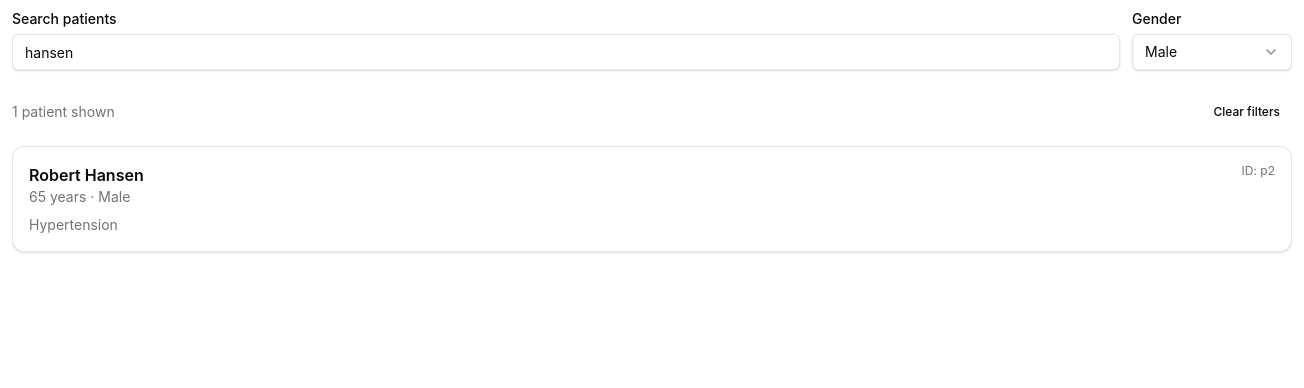
Test: PatientList › reads filters from the URL and can clear them
The image size is (1304, 388).
Expected: the heading "Robert Hansen" is shown, [29,163,144,187]
Expected: the text "mary smith" is not shown
Click the button "Clear filters" at (1247, 112), box [1201,96,1292,128]
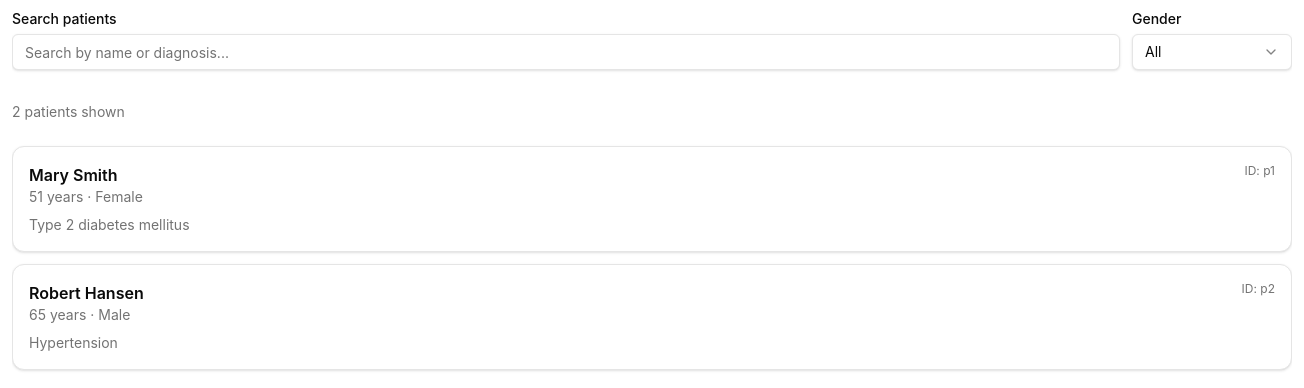
Expected: the heading "Robert Hansen" is shown, [29,281,144,305]
Expected: the heading "Mary Smith" is shown, [29,165,118,185]
